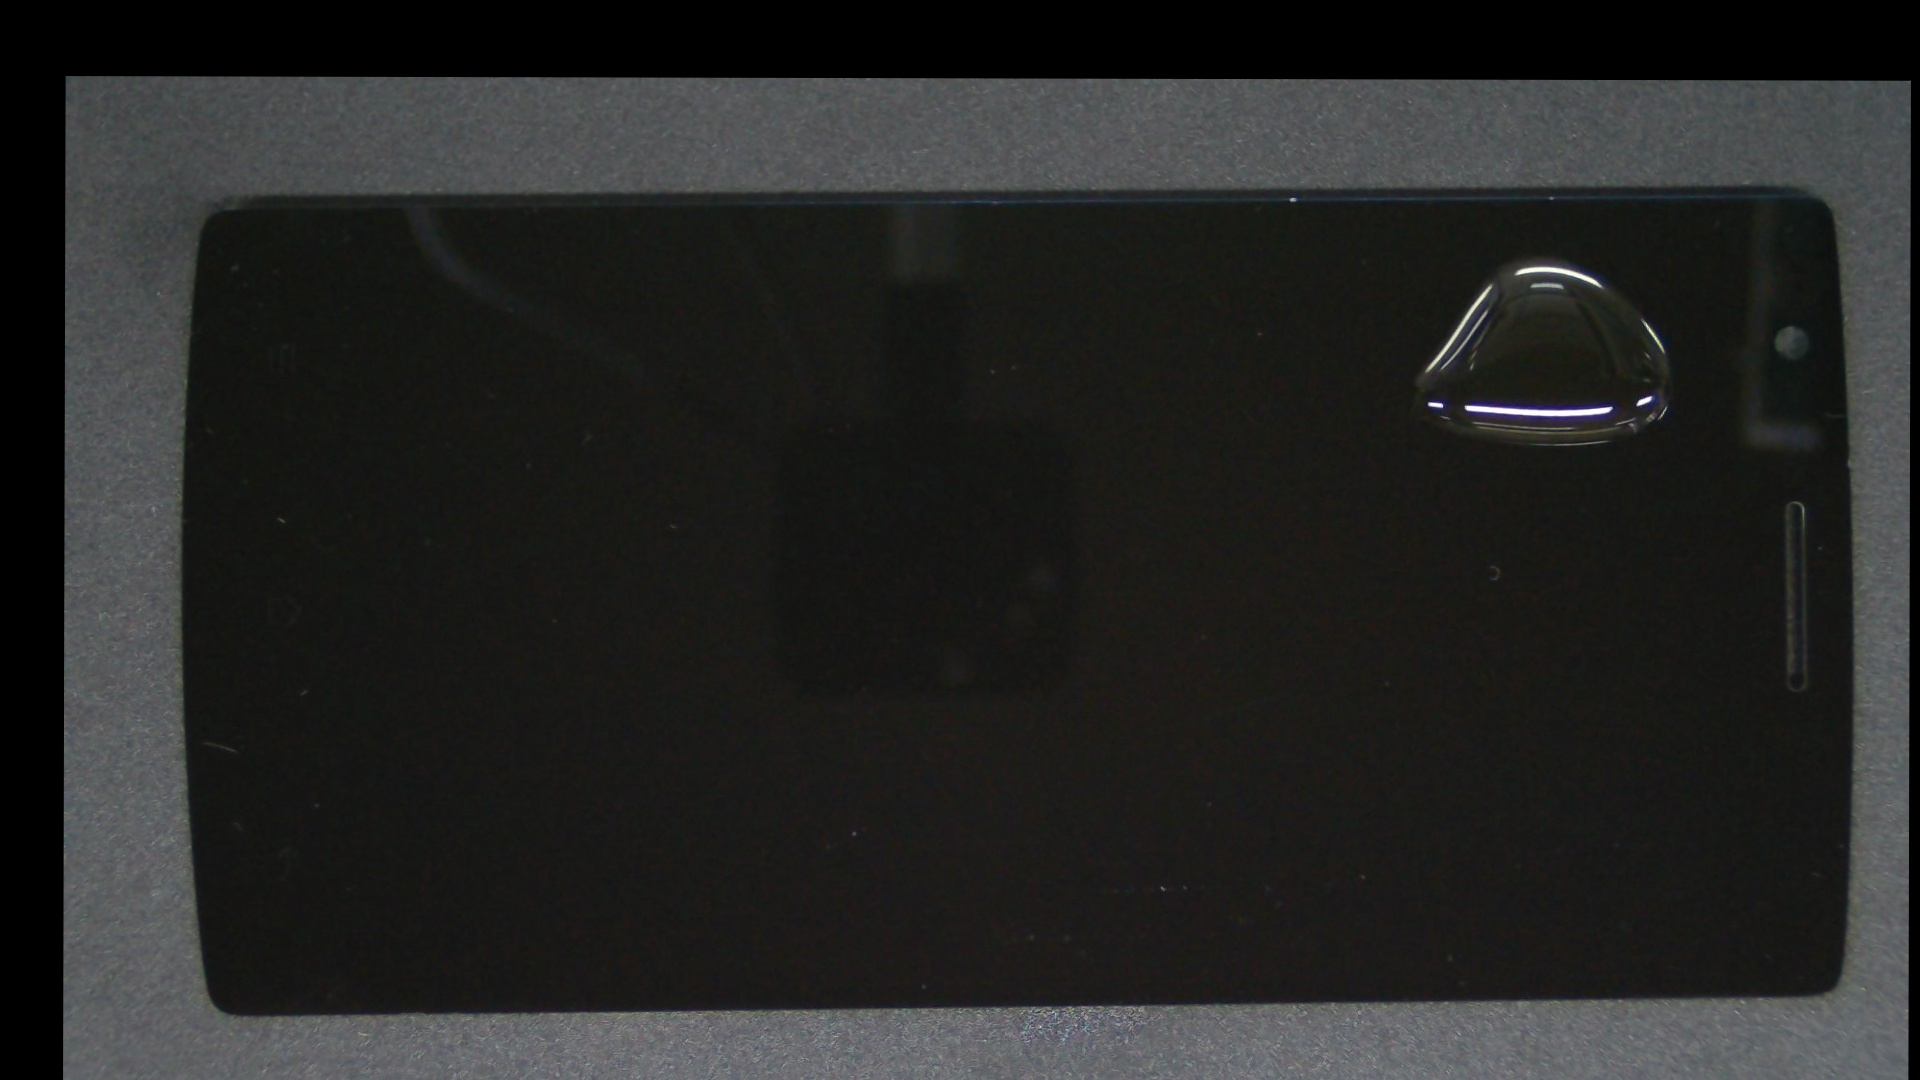oil: (808, 165, 1911, 344)
